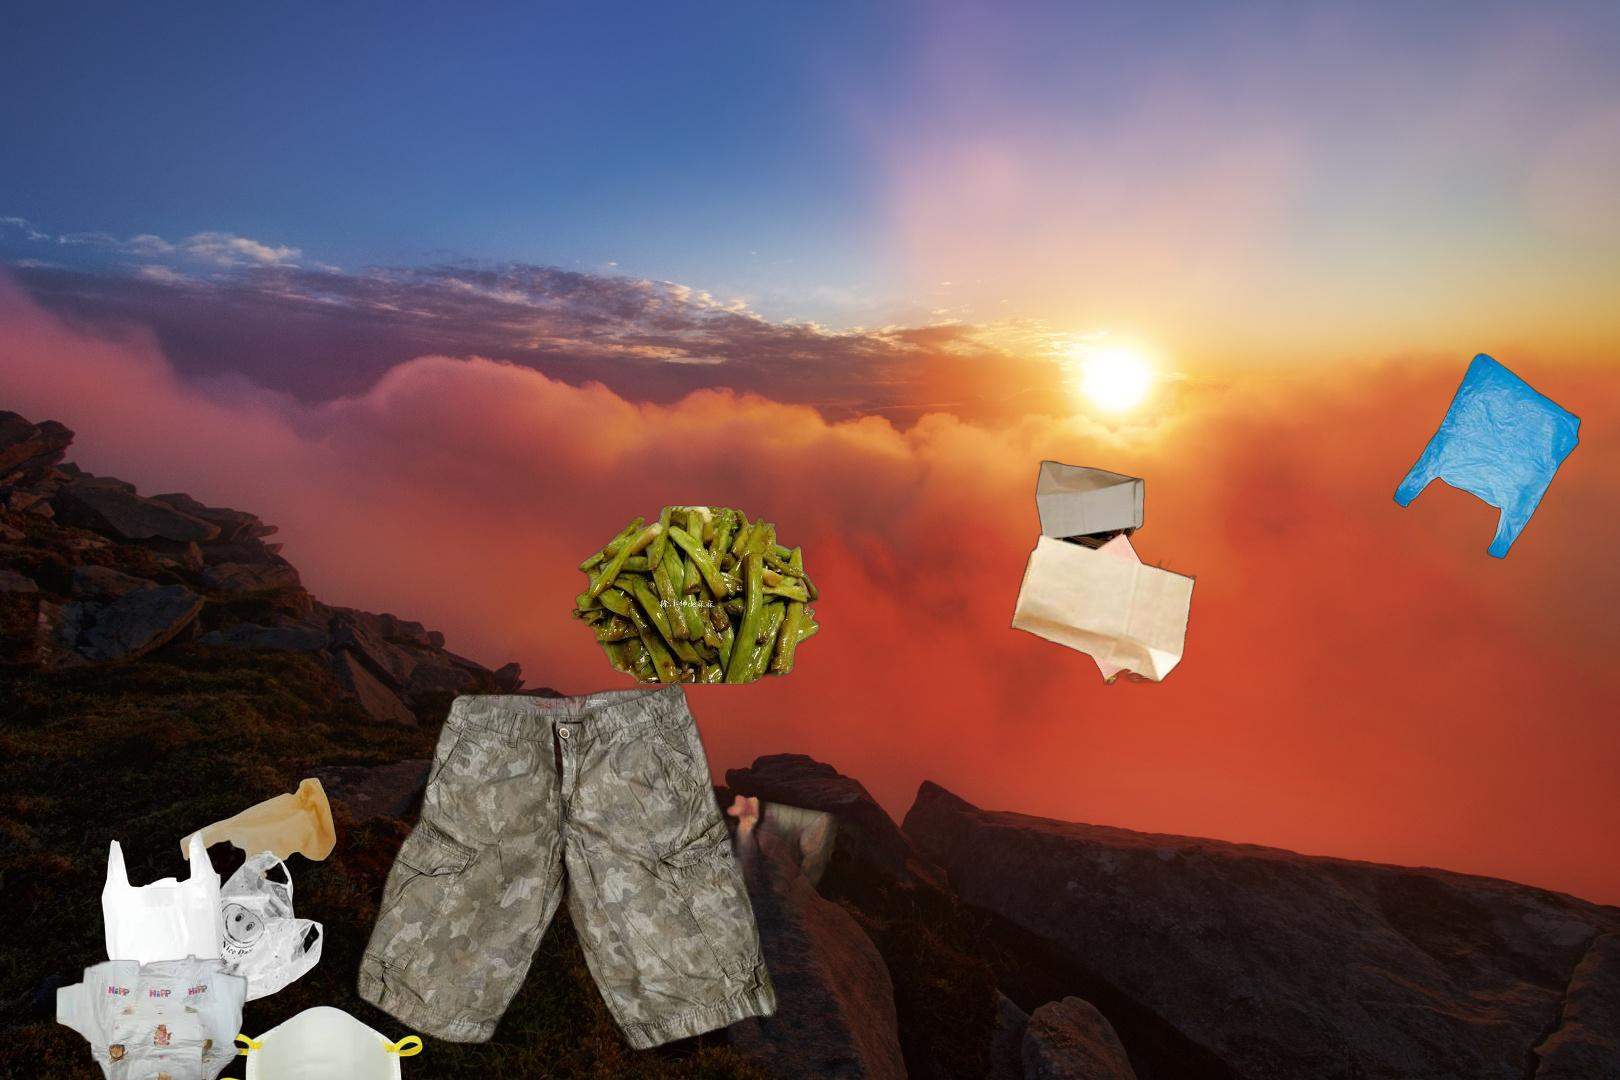biological: (568, 503, 822, 687)
clothes: (350, 679, 787, 1056)
paper: (471, 695, 964, 1075)
paper-bag: (1007, 458, 1199, 688)
plastic-bag: (98, 774, 340, 1006), (1391, 350, 1582, 562)
trash: (53, 952, 250, 1080), (215, 1003, 426, 1080)
